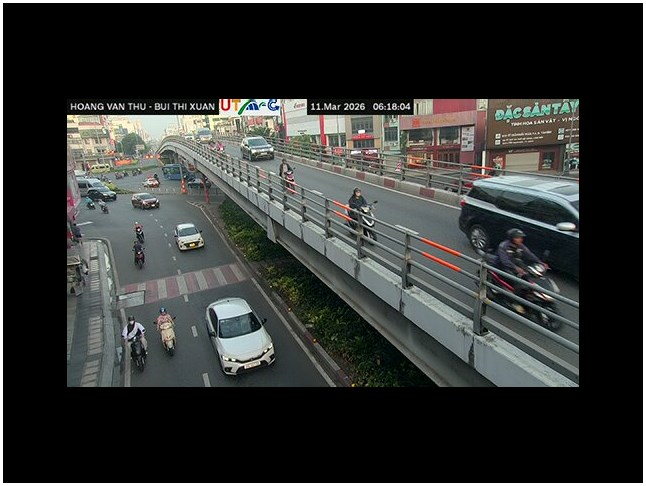car: (458, 173, 579, 281), (205, 297, 276, 376), (174, 221, 206, 252), (242, 136, 275, 161), (131, 193, 160, 210), (87, 188, 117, 202)
